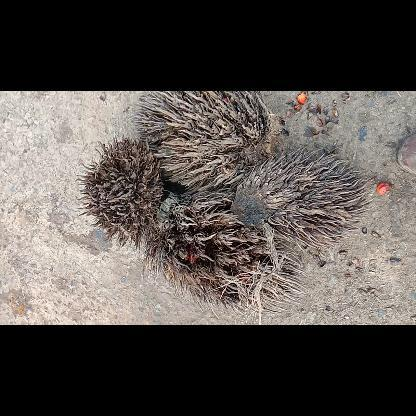Janjang kosong: (143, 192, 306, 324), (133, 90, 277, 194), (230, 148, 370, 248), (77, 133, 163, 247)
